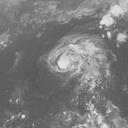cyclone: (44, 33, 113, 94)
